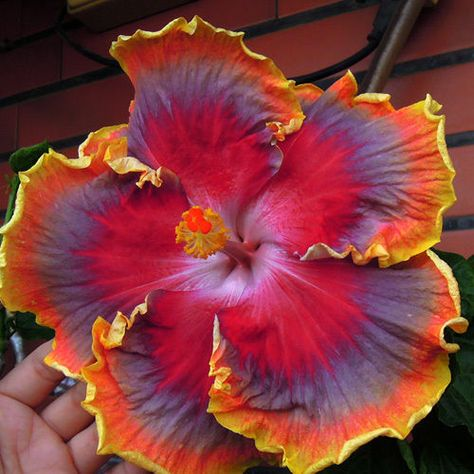Hibiscus: (2, 23, 461, 473)
